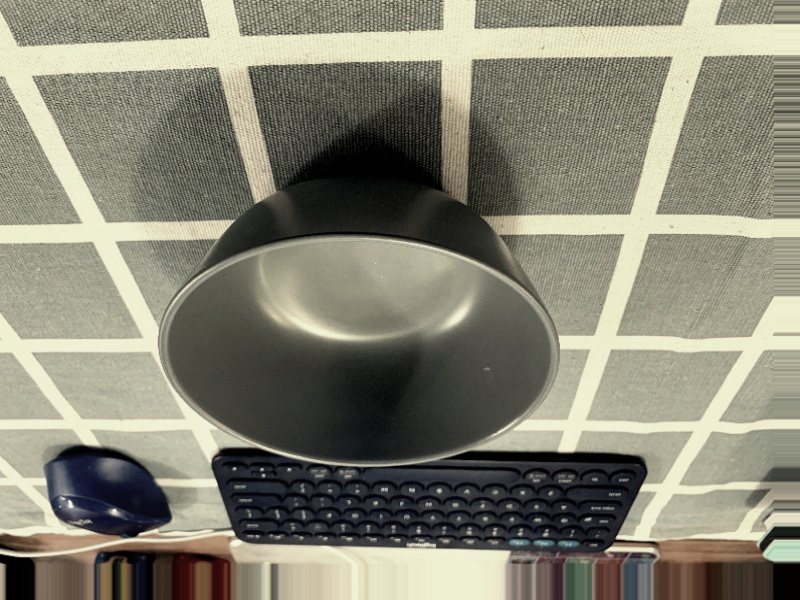bowl_big: (148, 167, 565, 470)
